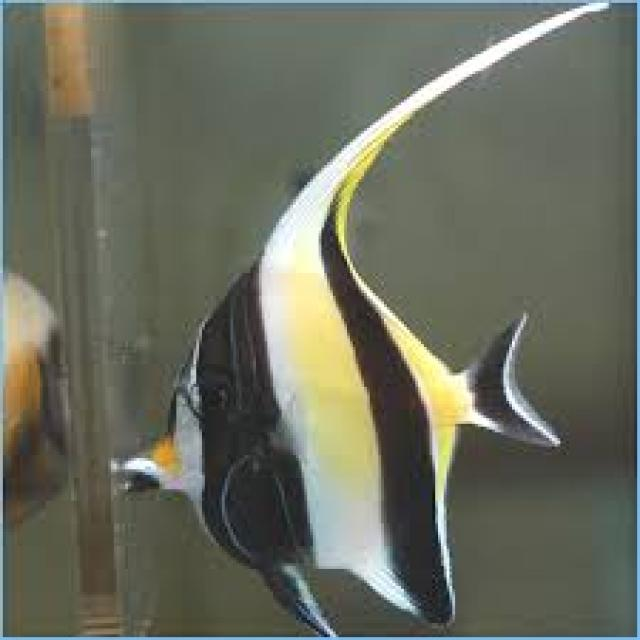MorishIdol: (108, 0, 617, 637)
